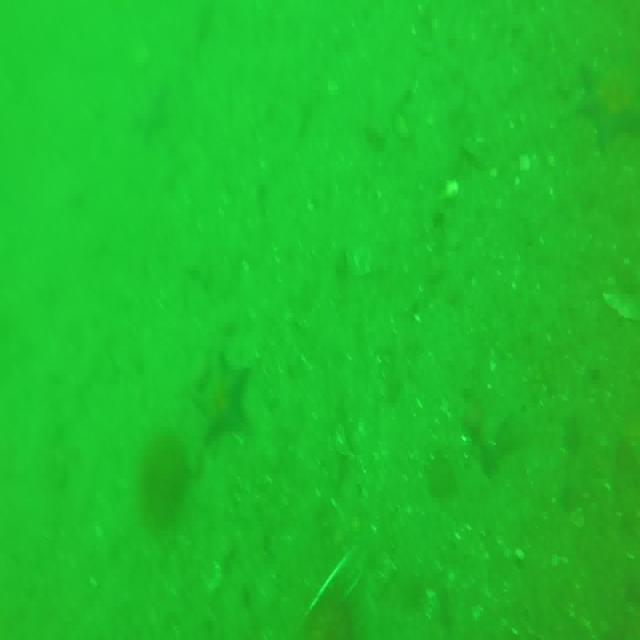echinus: (137, 425, 192, 528)
scallop: (393, 115, 415, 139), (440, 180, 460, 205), (520, 150, 533, 176)
starfish: (580, 51, 640, 153), (192, 345, 248, 444), (132, 86, 166, 134)
